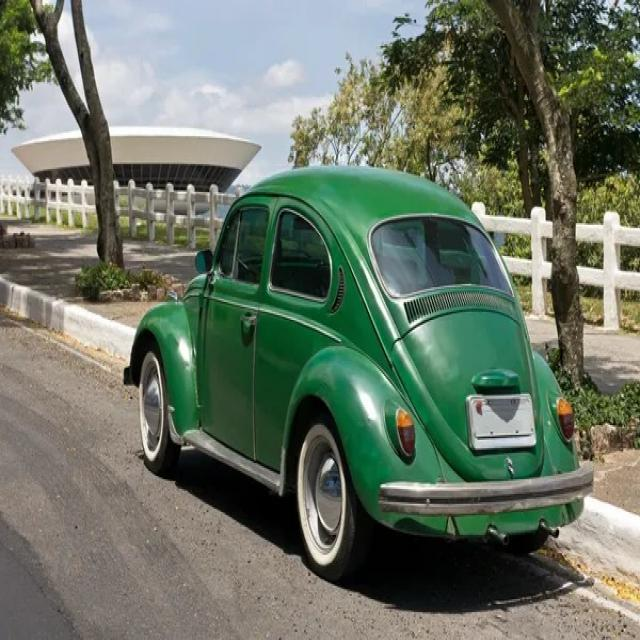cars: (122, 170, 588, 577)
